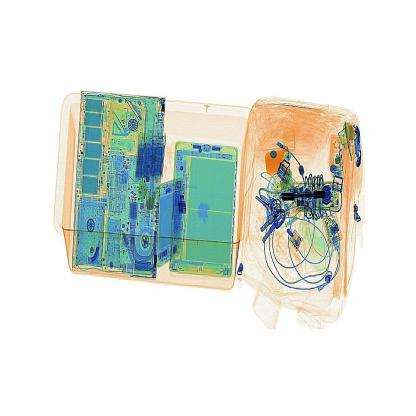knife: (277, 184, 337, 212)
